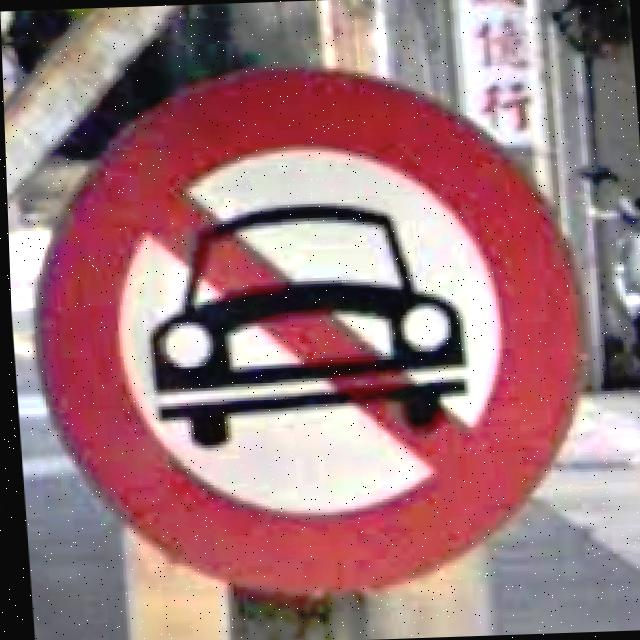nocar: (31, 68, 577, 600)
